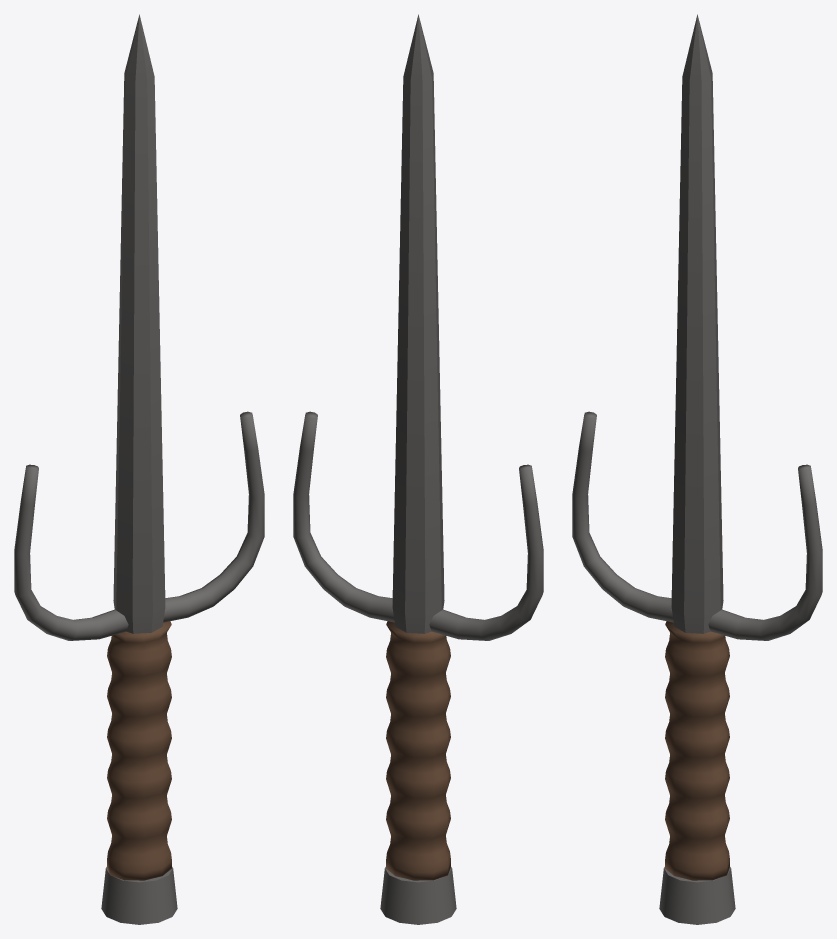
The model's file is sai.glb.
The picture shows the model from 3 angles, left to right: view 1: azimuth 30°, elevation 25°; view 2: azimuth 150°, elevation 25°; view 3: azimuth 330°, elevation 25°; orthographic projection.
Visible parts, largest first — view 1: sai; view 2: sai; view 3: sai.
Part boxes in pixels (left/top/right/bottom): sai: left=14, top=14, right=264, bottom=924; sai: left=293, top=14, right=543, bottom=924; sai: left=572, top=14, right=822, bottom=924.
Bounding box in the file's own units: 0.2561 × 0.89 × 0.068.
